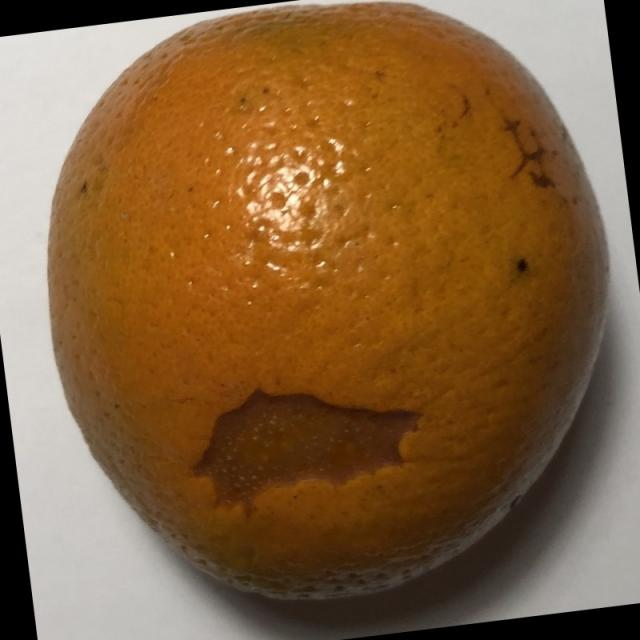canker: (26, 0, 635, 634)
